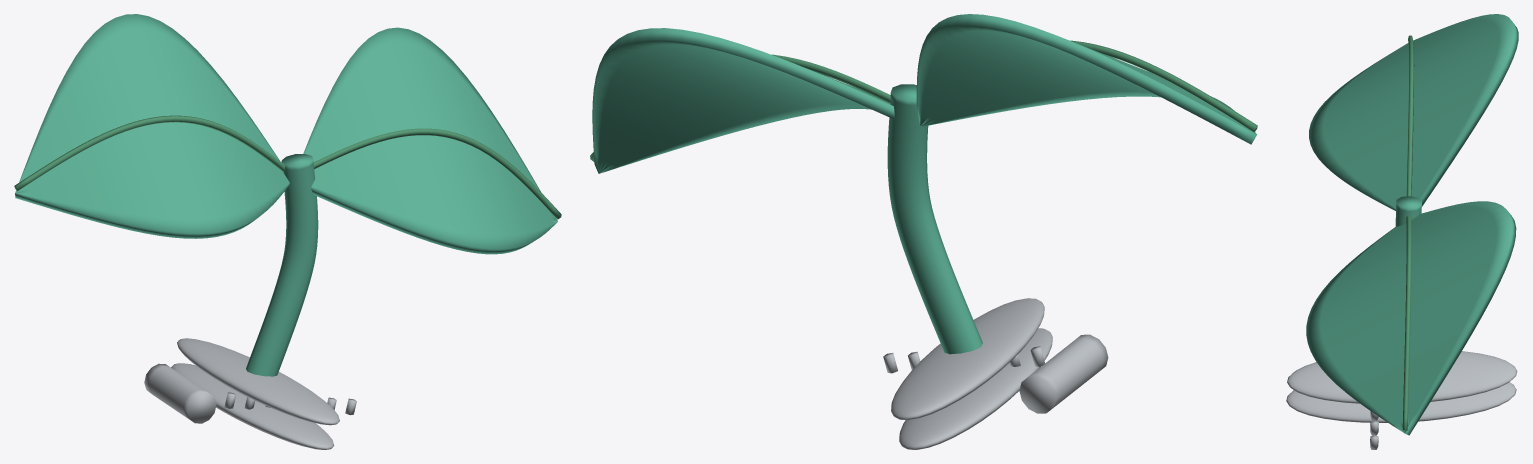
Rendered from Feminine-box-braids--headband-sprout.glb.
The picture shows the model from 3 angles, left to right: view 1: azimuth 30°, elevation 25°; view 2: azimuth 150°, elevation 25°; view 3: azimuth 270°, elevation 25°; orthographic projection. The views are drawn at different scales.
Parts seen in each view (by area): view 1: 226 extra / Accessory / mint226, 226 extra / Sprout / clip silver235, 226 extra / Sprout / leaf vein235; view 2: 226 extra / Accessory / mint226, 226 extra / Sprout / clip silver235, 226 extra / Sprout / leaf vein235; view 3: 226 extra / Accessory / mint226, 226 extra / Sprout / clip silver235, 226 extra / Sprout / leaf vein235.
Boxes of the visible parts, x1,y1,x2,y2 form: 226 extra / Accessory / mint226: [15, 14, 557, 376]; 226 extra / Sprout / clip silver235: [144, 338, 356, 449]; 226 extra / Sprout / leaf vein235: [14, 115, 561, 219]; 226 extra / Accessory / mint226: [592, 14, 1257, 354]; 226 extra / Sprout / clip silver235: [883, 298, 1108, 449]; 226 extra / Sprout / leaf vein235: [590, 40, 1257, 161]; 226 extra / Accessory / mint226: [1306, 14, 1518, 435]; 226 extra / Sprout / clip silver235: [1286, 351, 1517, 449]; 226 extra / Sprout / leaf vein235: [1402, 35, 1414, 430].
Size of the model in its own units: 0.2617 by 0.1755 by 0.1043.
